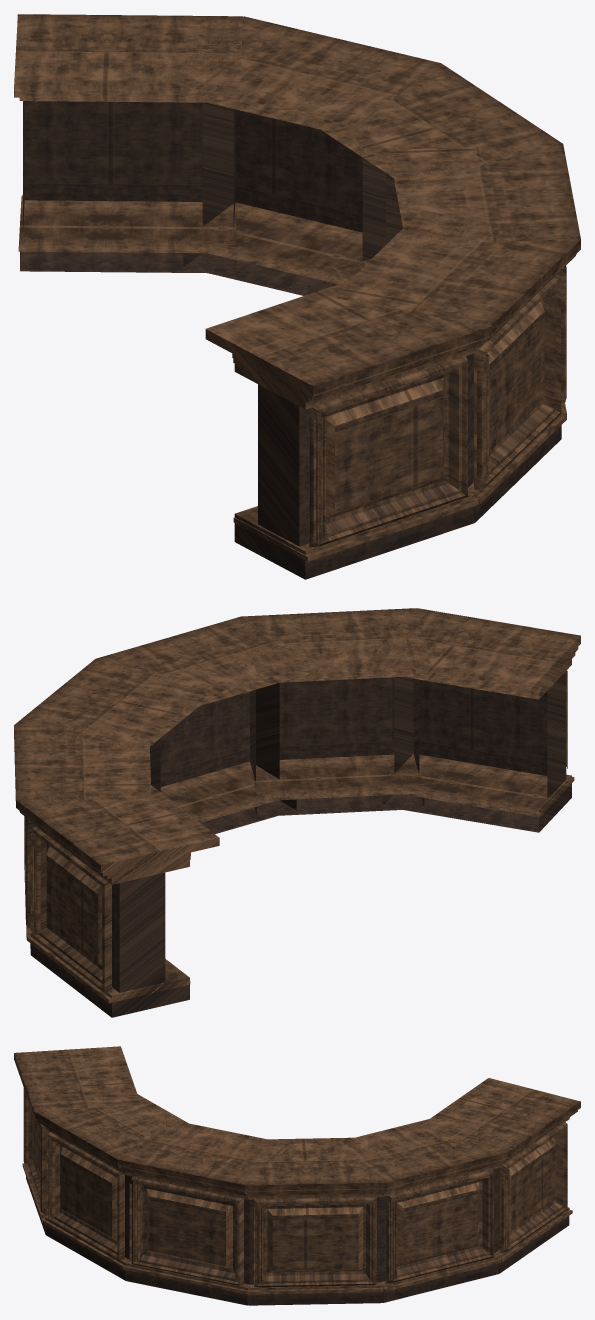
The model's file is reception_desk_aaa.glb.
The picture shows the model from 3 angles, top to bottom: view 1: azimuth 30°, elevation 25°; view 2: azimuth 150°, elevation 25°; view 3: azimuth 270°, elevation 25°; orthographic projection. The views are drawn at different scales.
Visible parts, largest first — view 1: reception_desk_aaa; view 2: reception_desk_aaa; view 3: reception_desk_aaa.
Part boxes in pixels (box(x1,y1,x2,y2)): reception_desk_aaa: box(14, 14, 580, 579); reception_desk_aaa: box(14, 608, 580, 1017); reception_desk_aaa: box(14, 1046, 580, 1305).
Bounding box in the file's own units: 2.61 × 1.09 × 4.49.
3 materials, 3 textured.
